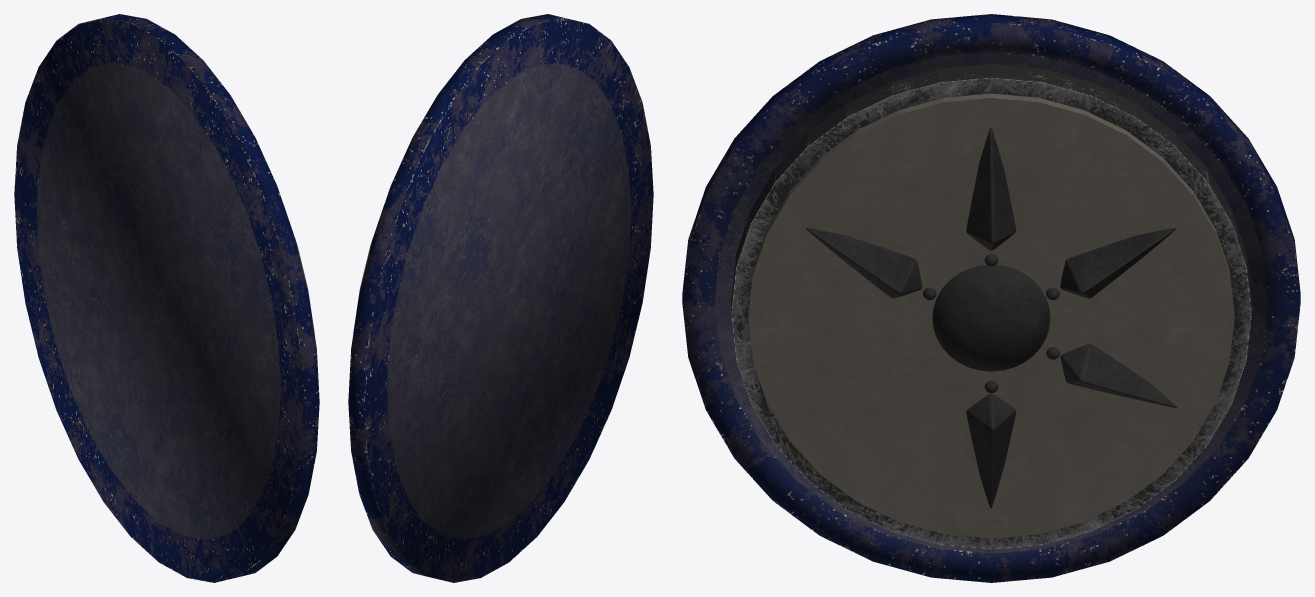
File: Escudo_pintado1.glb
3 renders of one model, left to right at view 1: azimuth 30°, elevation 25°; view 2: azimuth 150°, elevation 25°; view 3: azimuth 270°, elevation 25°, orthographic. The views are drawn at different scales.
Visible parts, largest first — view 1: Grande1; view 2: Grande1; view 3: Pequeño1, Grande1, Mediano1, Pico1, Centro1.
Part boxes in pixels (x1,y1,x2,y2): Grande1: [14, 14, 319, 582]; Grande1: [348, 14, 653, 582]; Pequeño1: [748, 93, 1234, 538]; Grande1: [682, 14, 1300, 582]; Mediano1: [731, 64, 1251, 549]; Pico1: [806, 127, 1176, 508]; Centro1: [923, 254, 1059, 393].
Bounding box in the file's own units: 2.13 × 13.6 × 13.6.
Materials: 8 (8 with a texture image).
